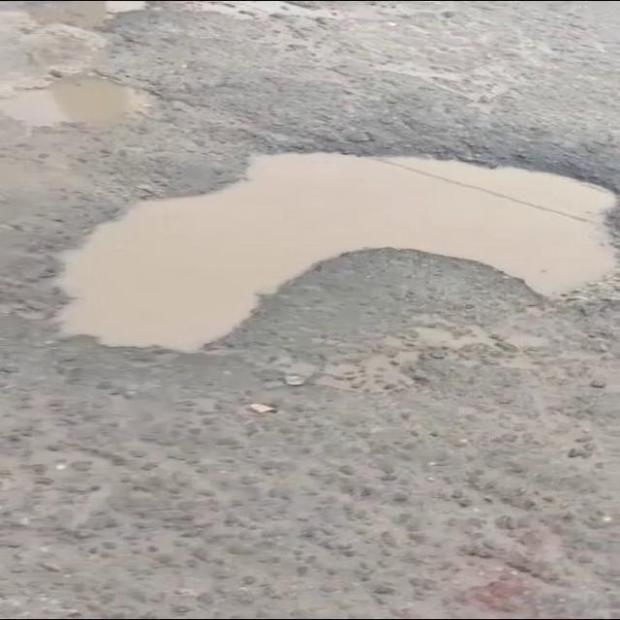lubang: (56, 153, 615, 351), (0, 73, 152, 128), (0, 2, 152, 51)
